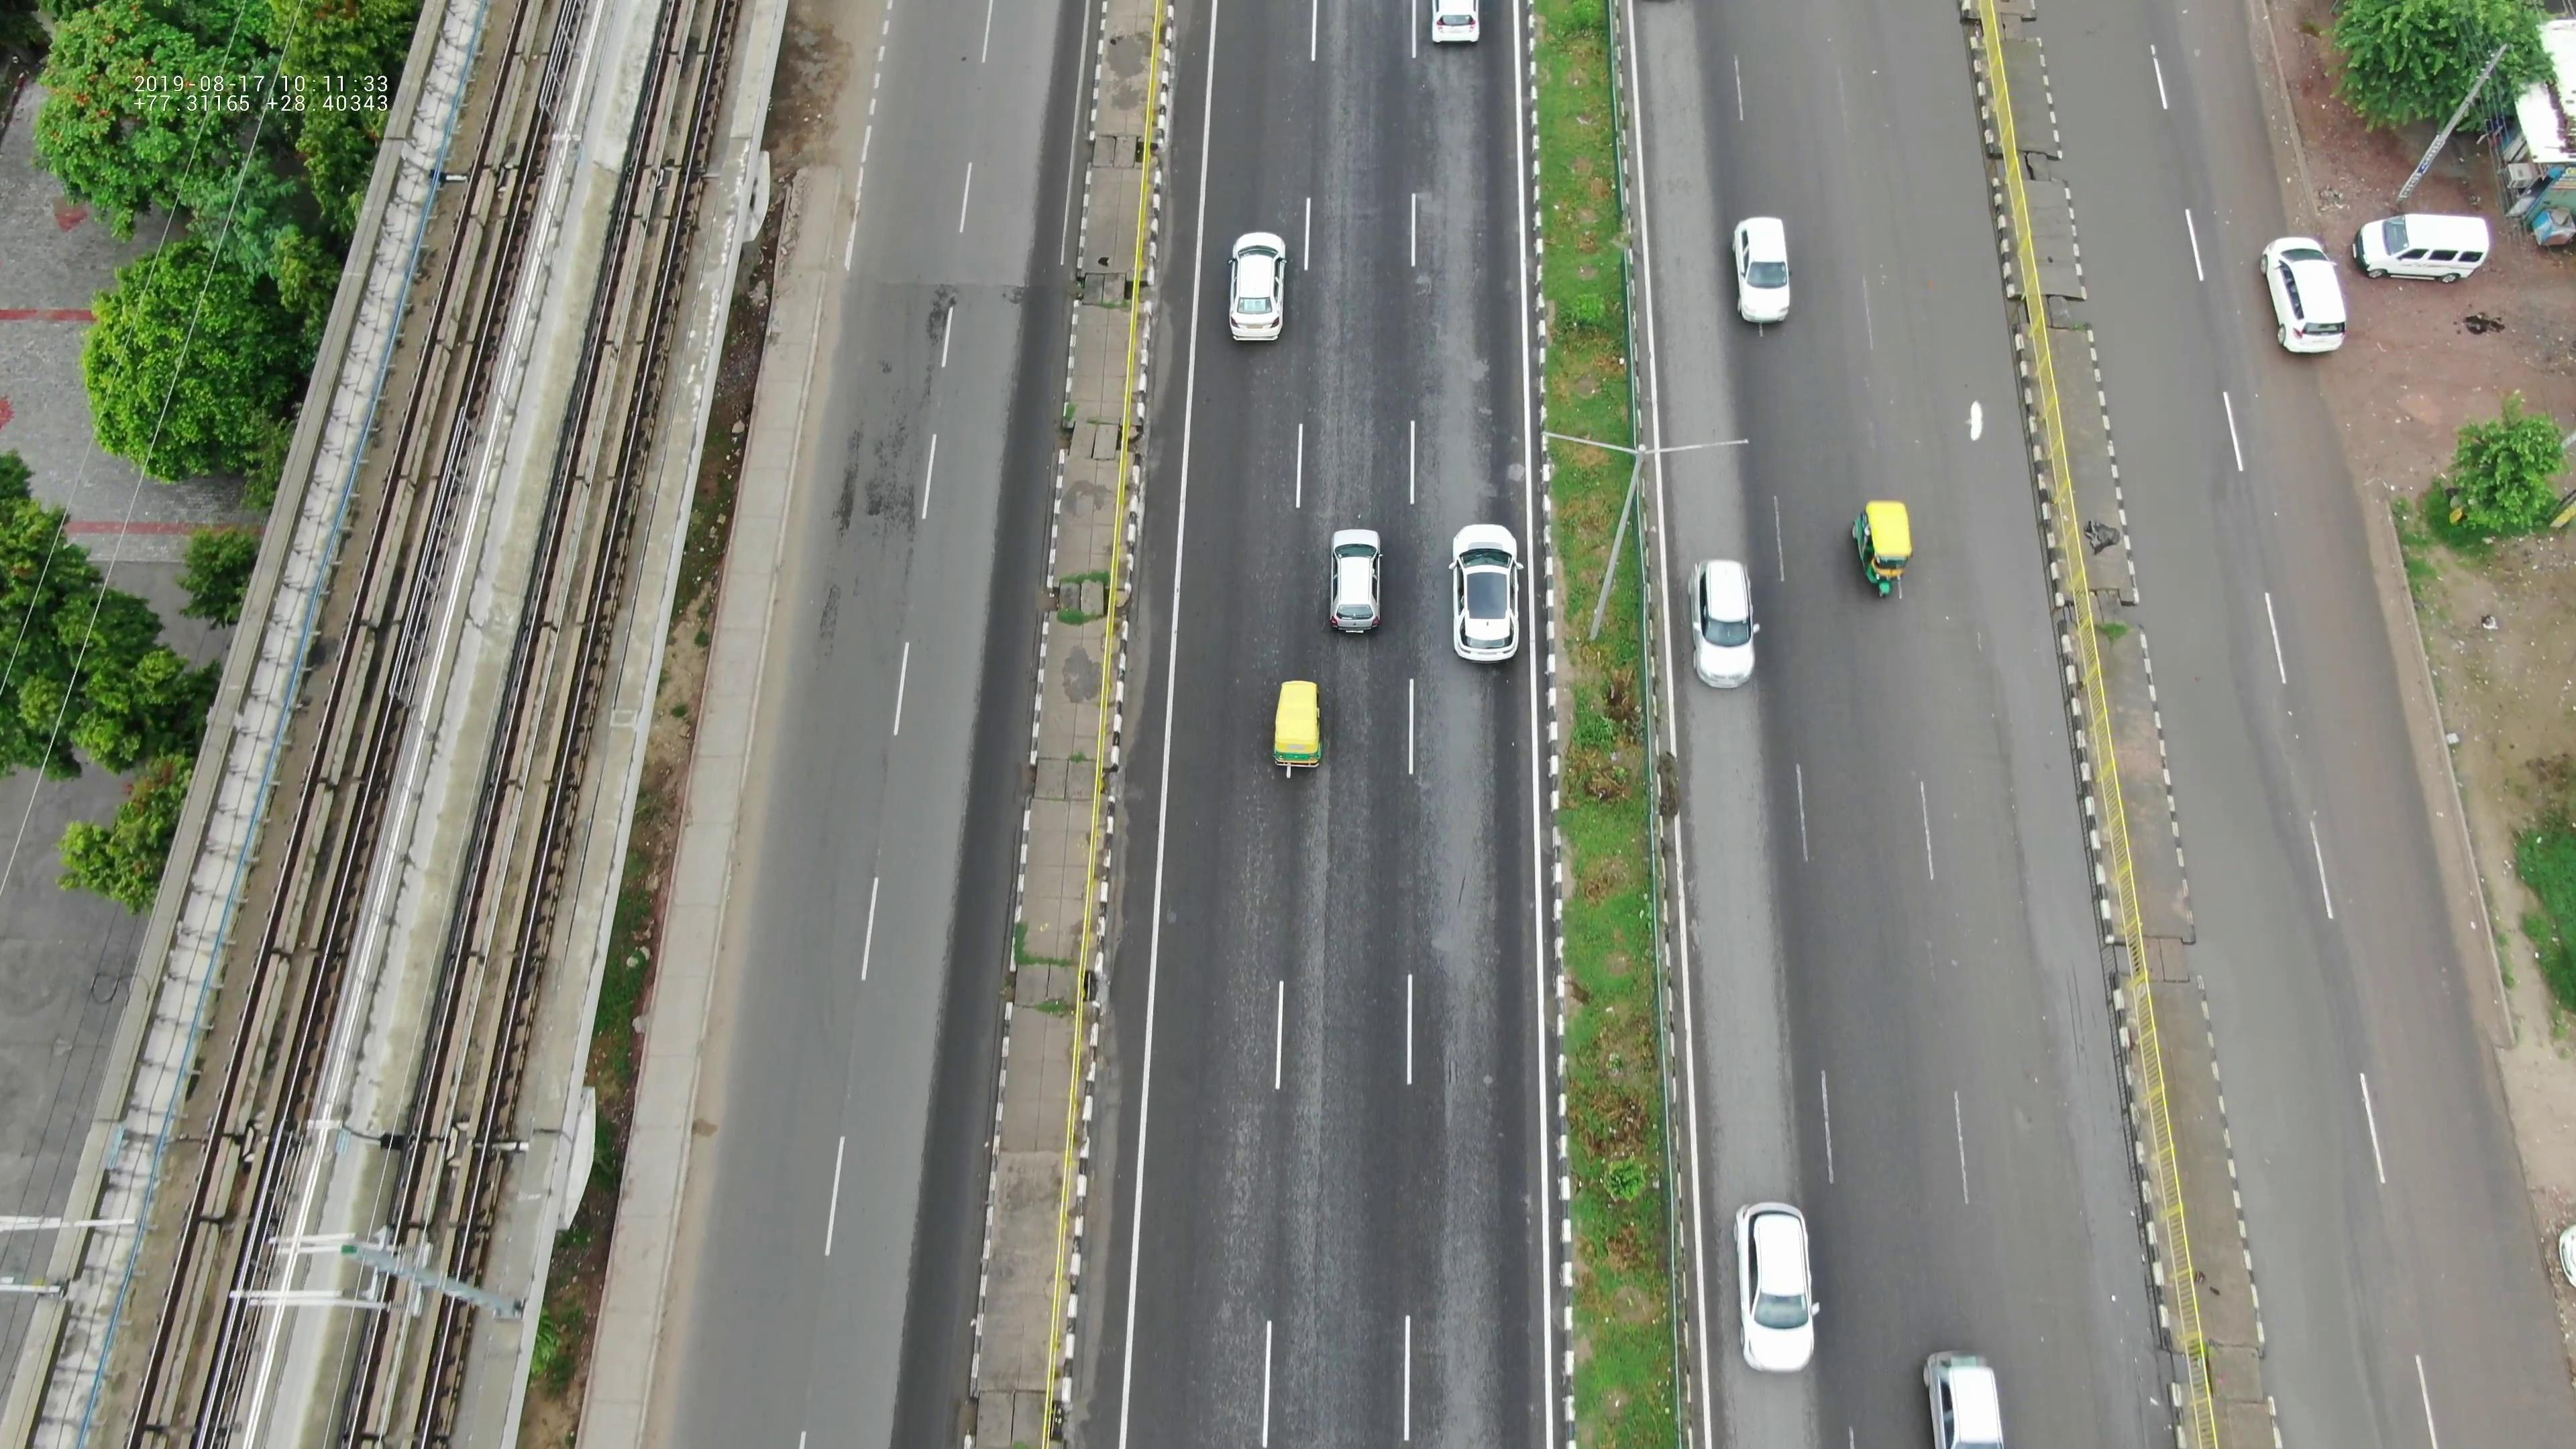Waterlogging: (2189, 796, 2376, 1281), (1879, 57, 2040, 504), (1971, 616, 2109, 1033)
